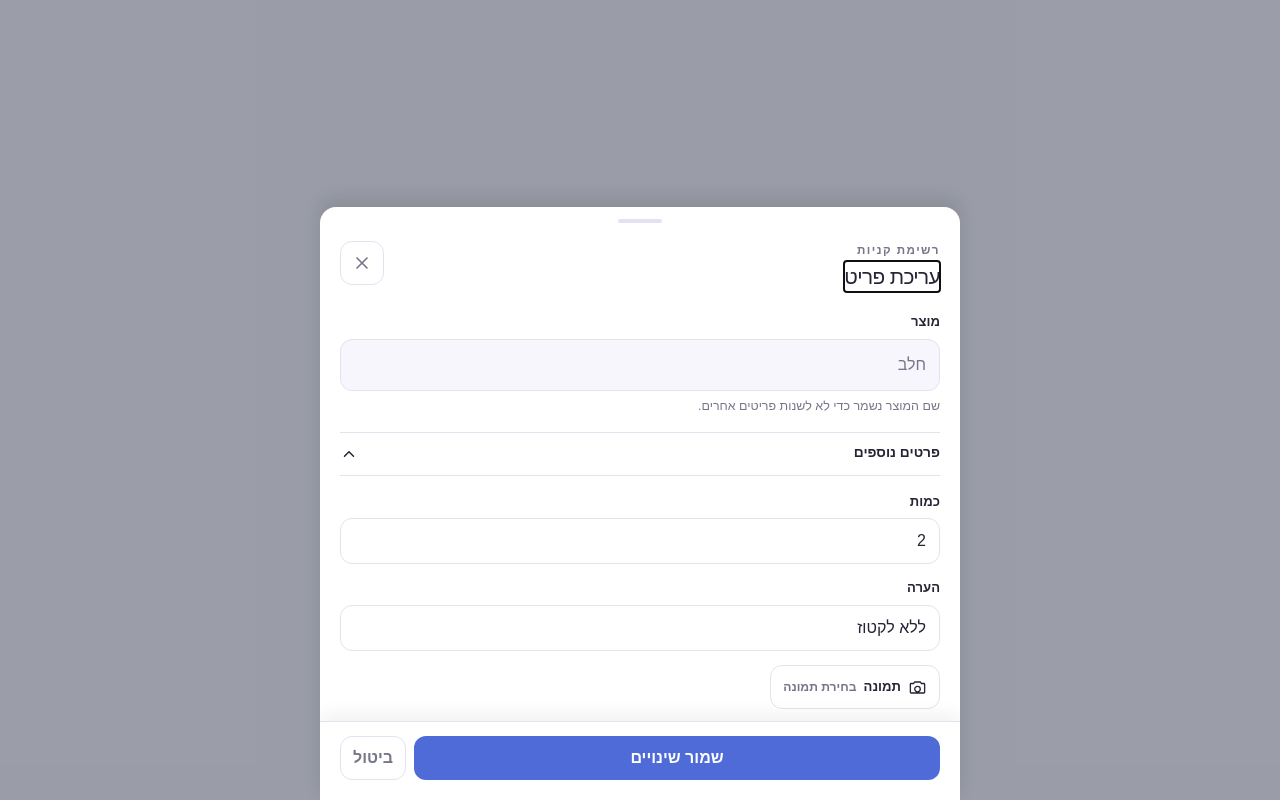
Test: keeps item fields visible after a save error
This screenshot has width=1280, height=800.
Replace the text in the field labelled "כמות" with "3" at (640,541), box [340,518,940,564]
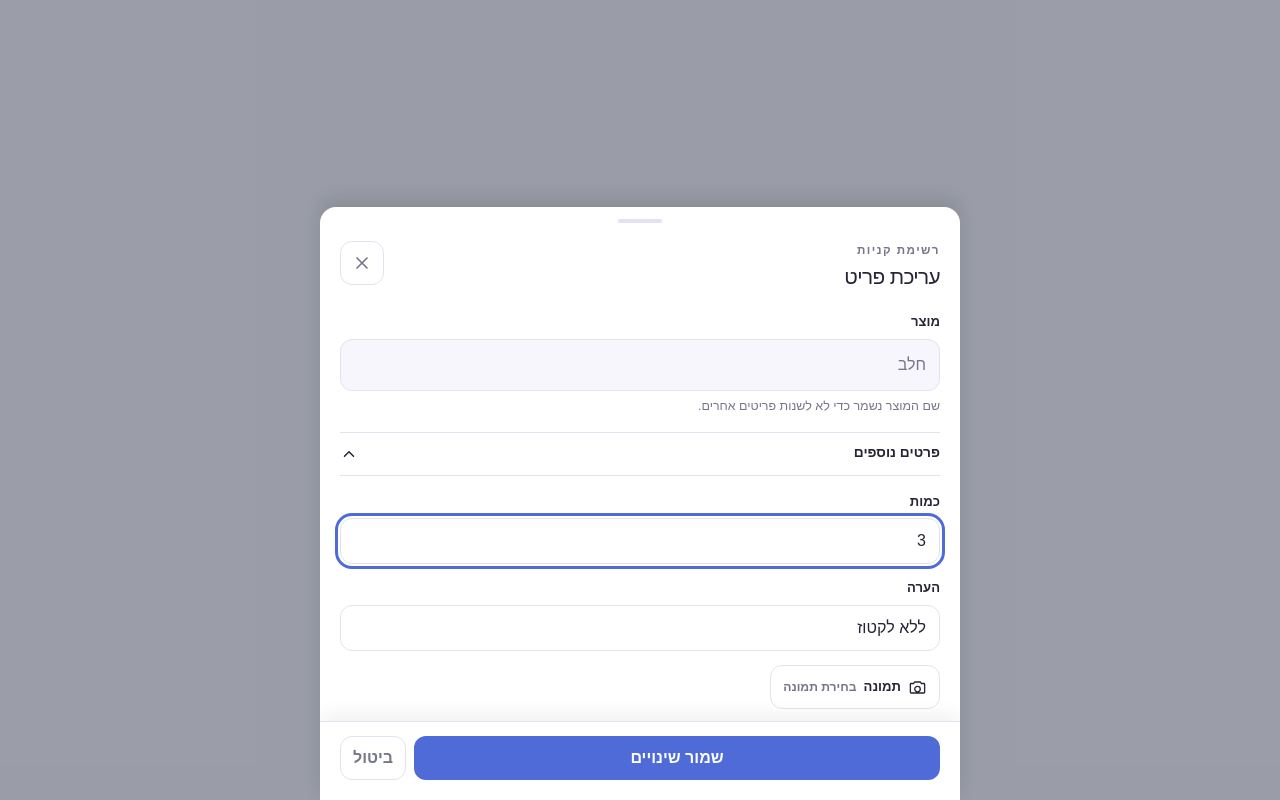
Click the button "שמור שינויים" at (677,758), box [414,736,940,780]
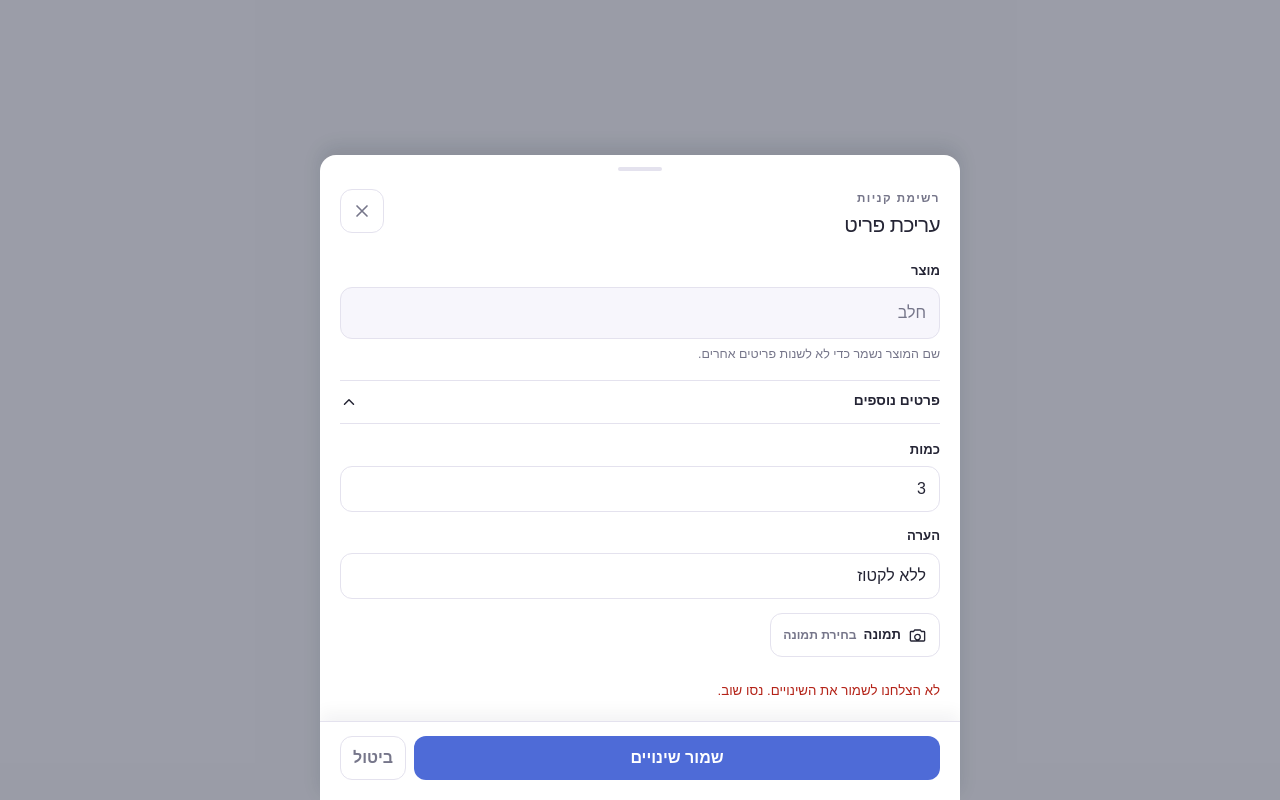
Result: the text "לא הצלחנו לשמור את השינויים. נסו שוב." is shown at [718,683,940,698]
